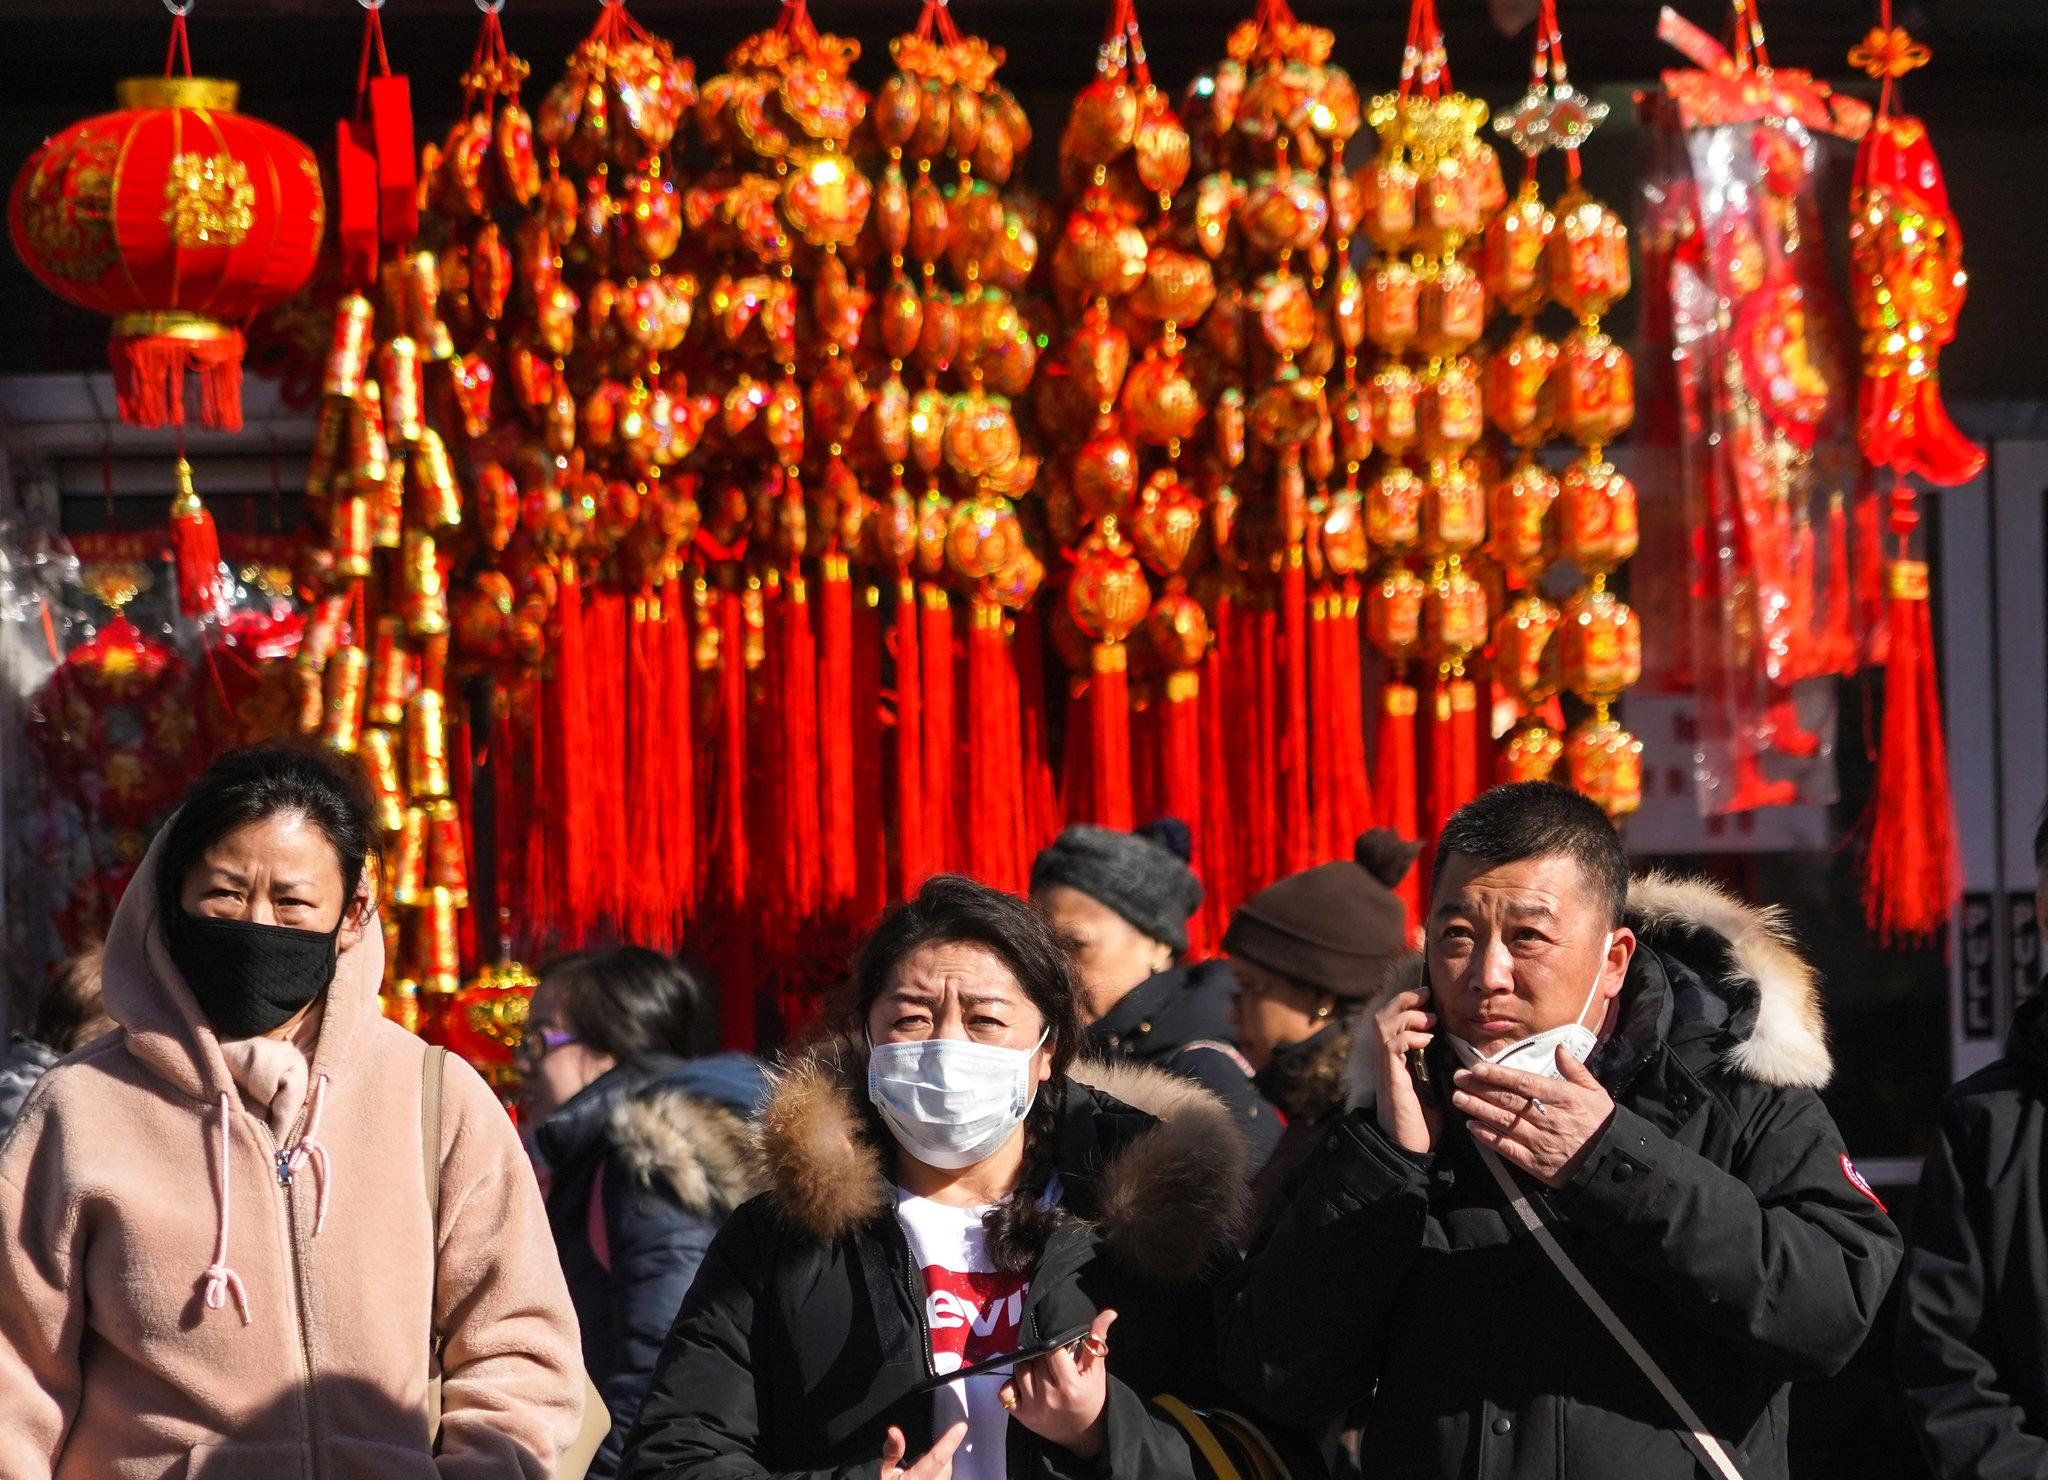mask: (164, 841, 343, 1033), (875, 986, 1040, 1172)
none: (1224, 963, 1318, 1071), (522, 1014, 601, 1122)
poor: (1426, 879, 1601, 1087)
